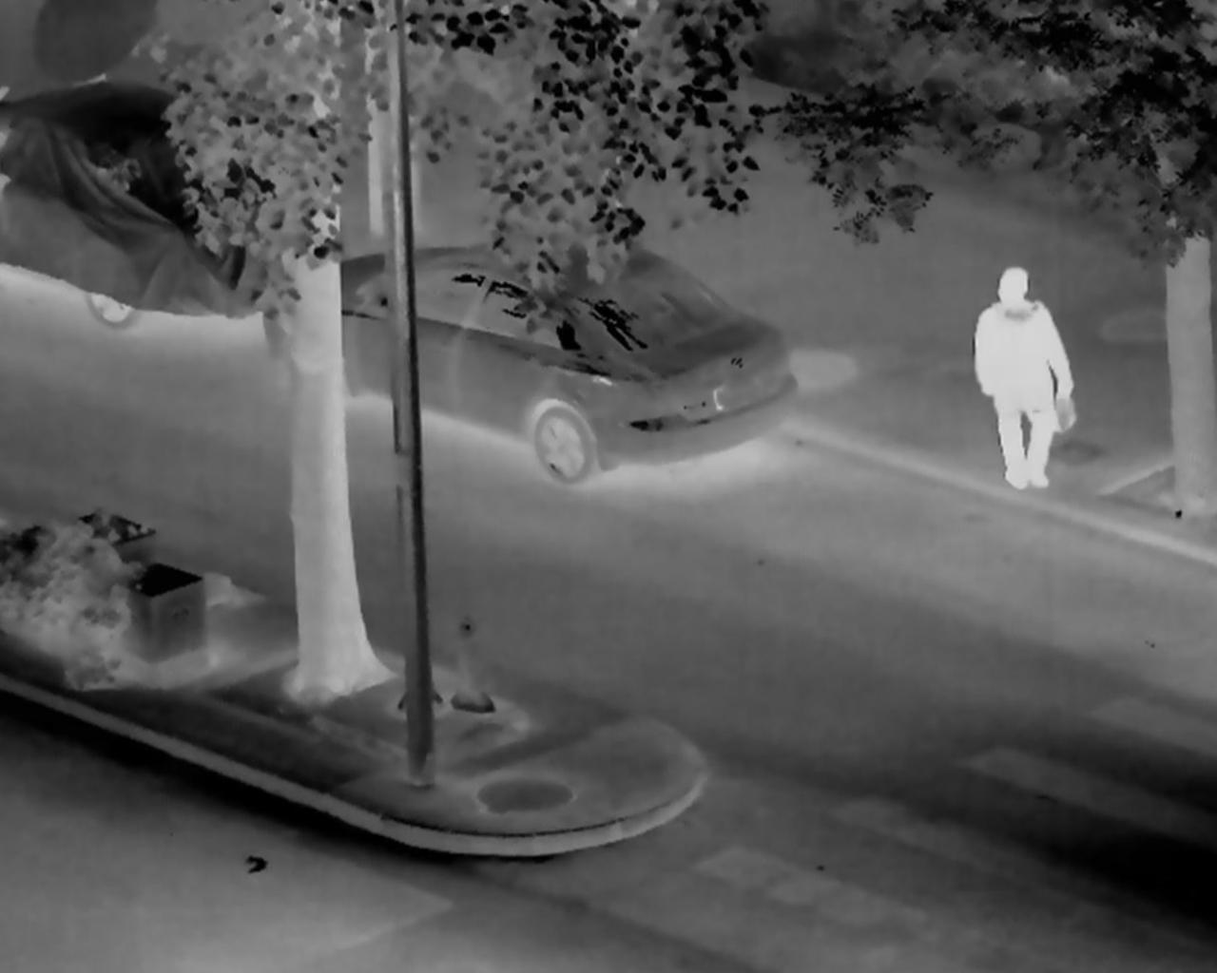person: (973, 262, 1075, 490)
